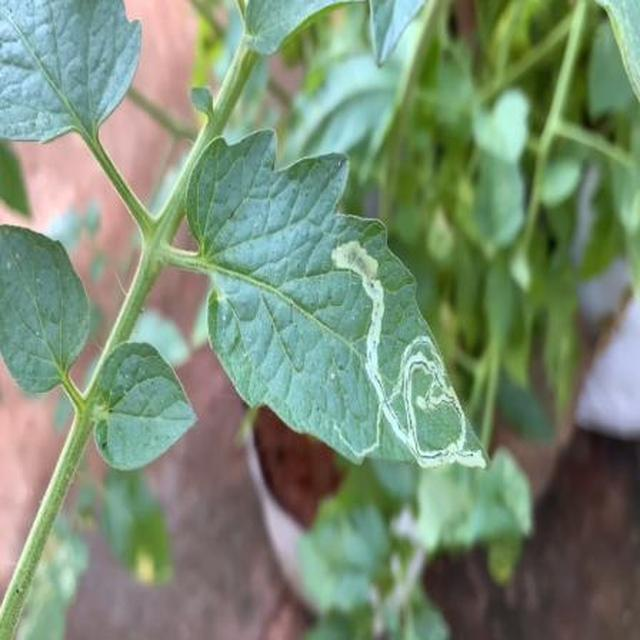Leaf Miner: (64, 193, 484, 582)
